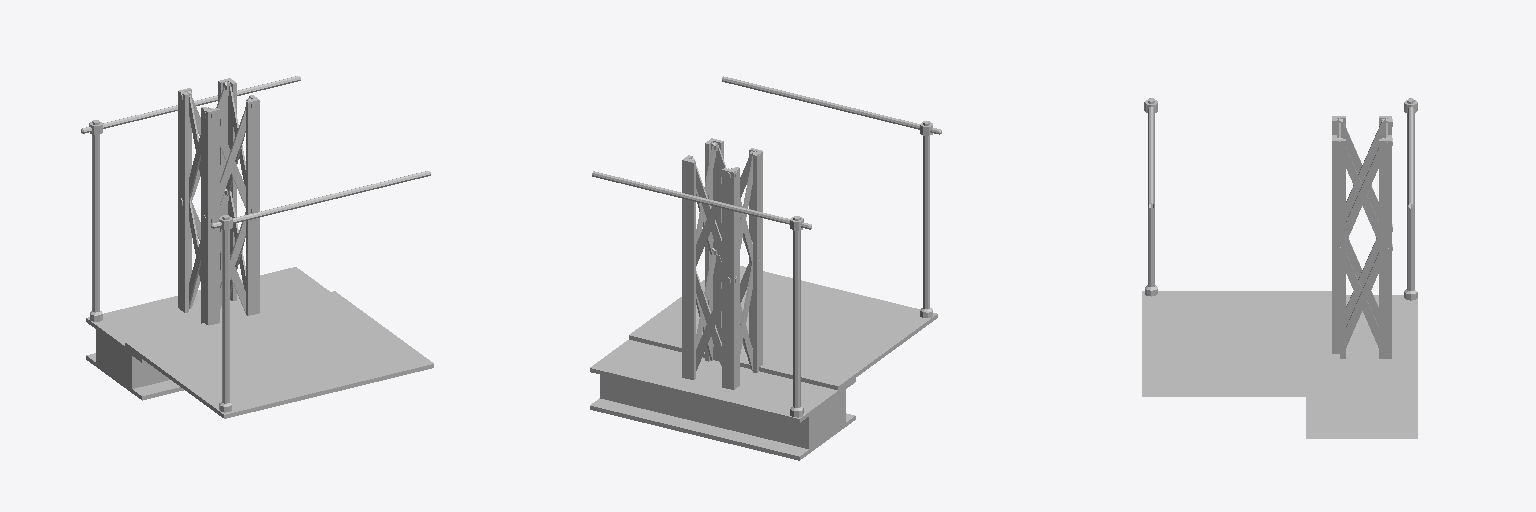
Rendered from lms_signal_gantry_platform_left_lattice.obj.
3 renders of one model, left to right at view 1: azimuth 30°, elevation 25°; view 2: azimuth 150°, elevation 25°; view 3: azimuth 270°, elevation 25°, orthographic.
Parts seen in each view (by area): view 1: platform_left_Lattice_Cube.014; view 2: platform_left_Lattice_Cube.014; view 3: platform_left_Lattice_Cube.014.
Part boxes in pixels (bbox=[...]): platform_left_Lattice_Cube.014: bbox=[81, 76, 433, 418]; platform_left_Lattice_Cube.014: bbox=[590, 76, 941, 460]; platform_left_Lattice_Cube.014: bbox=[1142, 98, 1417, 438].
Size of the model in its own units: 1.04 by 1.18 by 1.14.